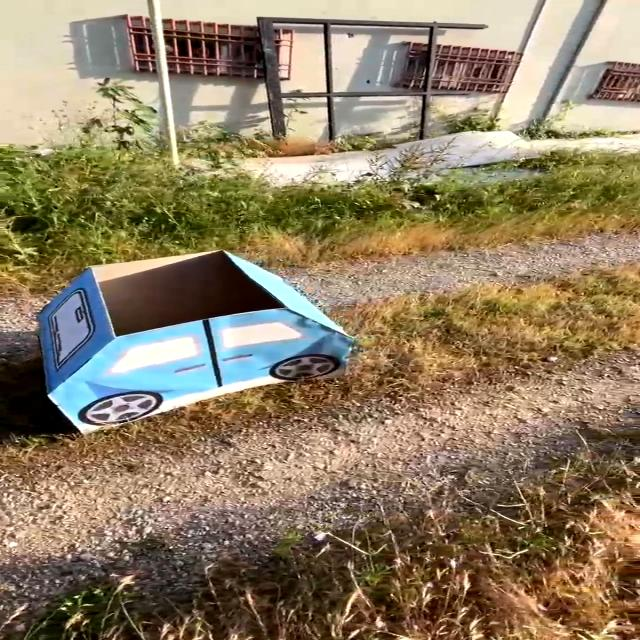blue_car: (0, 242, 393, 433)
